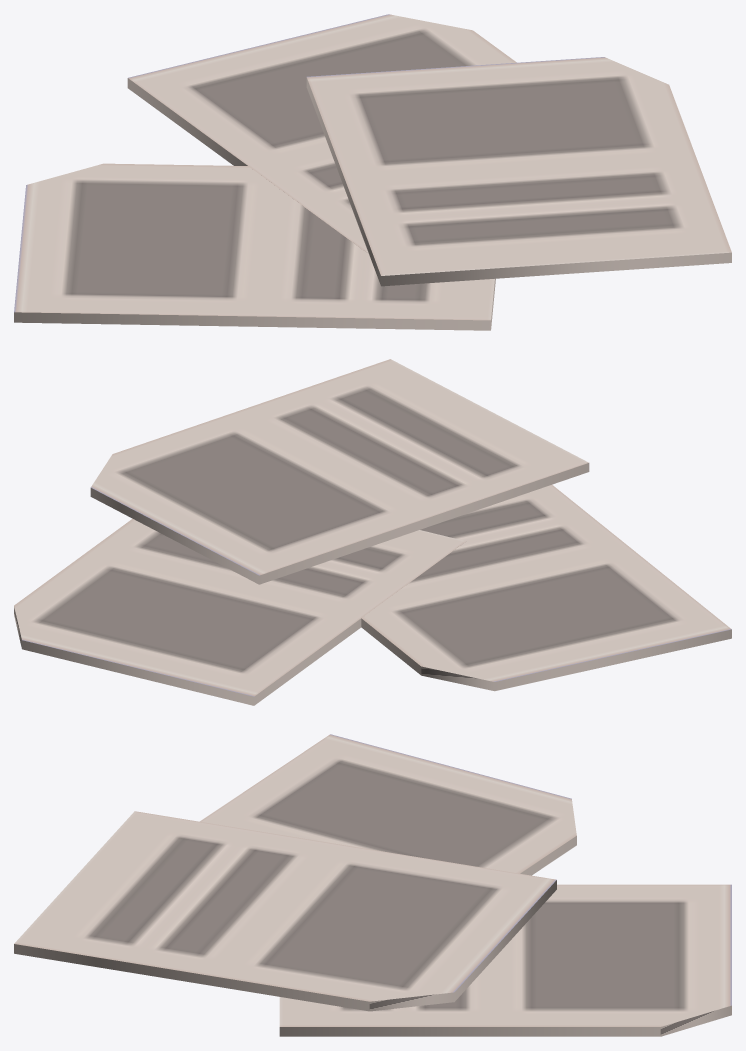
File: paperpiece.fbx
3 renders of one model, top to bottom at view 1: azimuth 30°, elevation 25°; view 2: azimuth 150°, elevation 25°; view 3: azimuth 270°, elevation 25°, orthographic. The views are drawn at different scales.
Parts seen in each view (by area): view 1: paperpiece; view 2: paperpiece; view 3: paperpiece.
Boxes of the visible parts, x1=… form: paperpiece: x1=14, y1=14, x2=731, y2=330; paperpiece: x1=14, y1=359, x2=731, y2=705; paperpiece: x1=14, y1=734, x2=731, y2=1036.
Bounding box in the file's own units: 84.91 × 6.95 × 82.44.
1 material, 1 textured.
